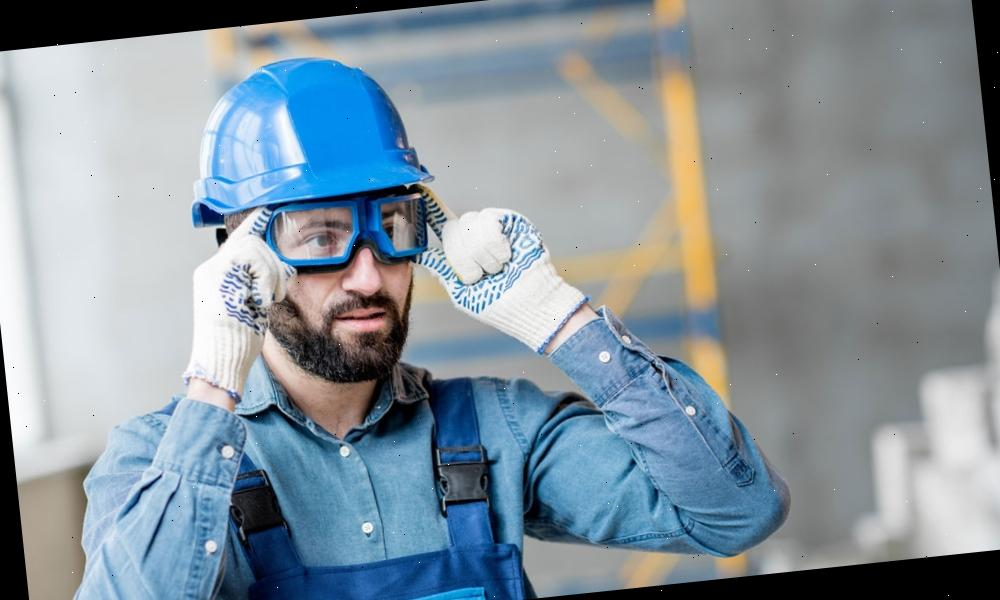helmet: (182, 41, 442, 230)
no_wear: (54, 361, 543, 600)
